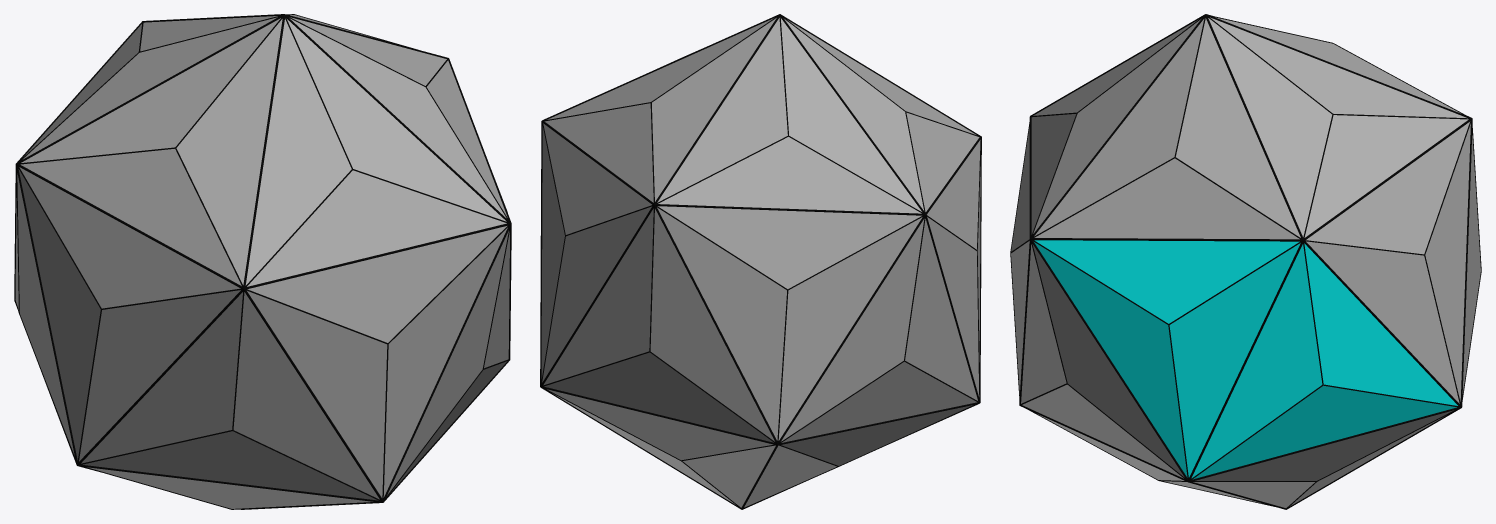
File: TriakisIcosahedron6_4.glb
3 views of the same model, side by side, from view 1: azimuth 30°, elevation 25°; view 2: azimuth 150°, elevation 25°; view 3: azimuth 270°, elevation 25° (orthographic). The views are drawn at different scales.
Size of the model in its own units: 5.88 by 6.84 by 5.89.
